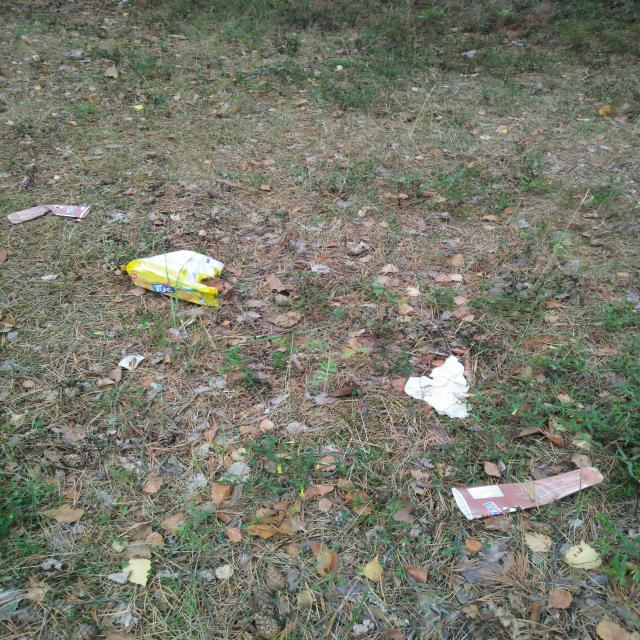Meal carton: (450, 466, 604, 520), (4, 205, 89, 224)
Normal paper: (404, 355, 472, 418)
Other plastic: (118, 250, 223, 306)
